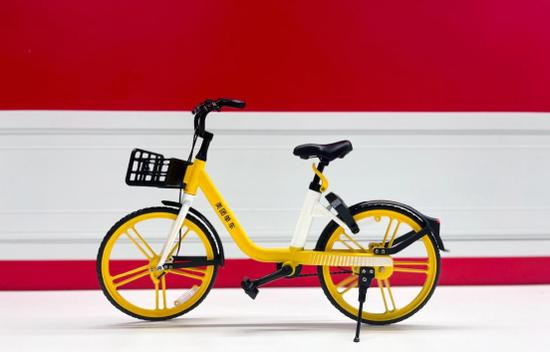单车: (91, 85, 453, 349)
